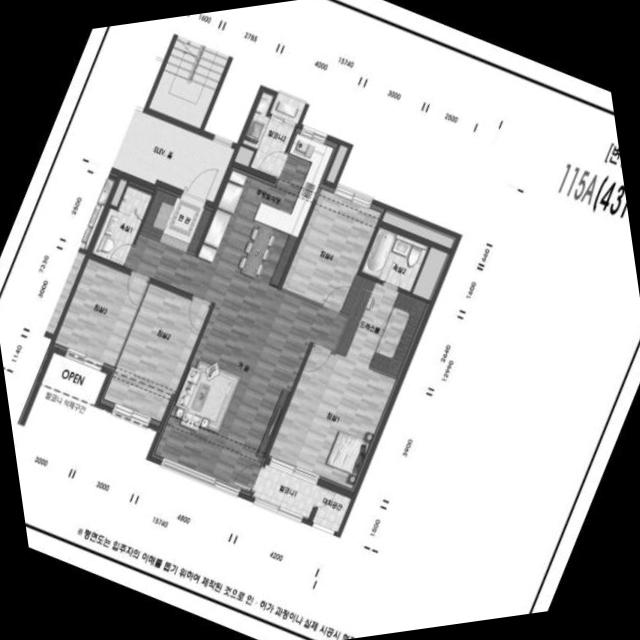background: (0, 0, 640, 640)
space_balconi: (242, 93, 294, 178), (252, 465, 321, 520)
space_bedroom: (268, 347, 398, 493), (99, 284, 209, 427), (282, 185, 383, 316), (53, 259, 148, 370)
space_dressroom: (336, 278, 429, 378)
space_front: (139, 187, 213, 257)
space_kitchen: (198, 128, 338, 290)
space_living_room: (126, 234, 347, 495)
space_other: (381, 209, 456, 249), (413, 247, 450, 301), (313, 489, 351, 532), (270, 93, 305, 124), (327, 146, 348, 184), (110, 178, 127, 207), (234, 147, 254, 167)
space_toilet: (92, 187, 151, 266), (361, 227, 428, 292)
